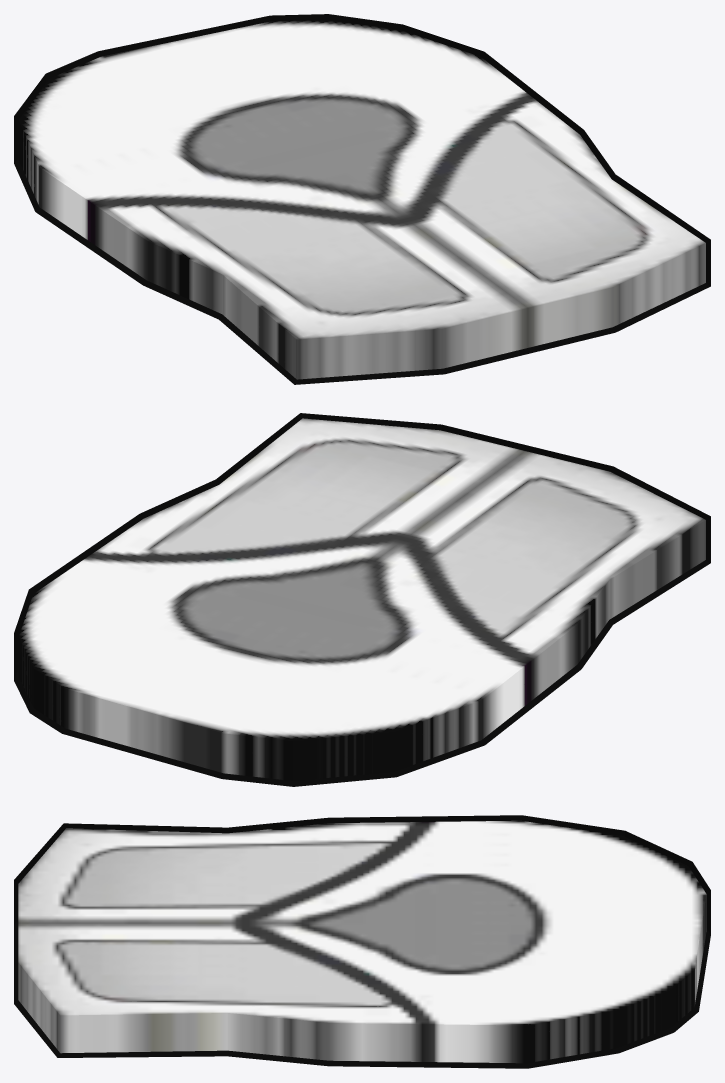
File: Item_Apparel_FlakJacket_Things_Pawn_Humanlike_Apparel_FlakJacket_FlakJacket.glb
3 renders of one model, top to bottom at view 1: azimuth 30°, elevation 25°; view 2: azimuth 150°, elevation 25°; view 3: azimuth 270°, elevation 25°, orthographic. The views are drawn at different scales.
Parts seen in each view (by area): view 1: Body, Outline; view 2: Body, Outline; view 3: Body, Outline.
Boxes of the visible parts, bbox=[...] form: Body: bbox=[18, 20, 705, 379]; Outline: bbox=[14, 14, 710, 384]; Body: bbox=[18, 418, 705, 780]; Outline: bbox=[14, 413, 710, 786]; Body: bbox=[18, 820, 706, 1063]; Outline: bbox=[14, 815, 710, 1068].
Bounding box in the file's own units: 0.6443 × 0.066 × 0.9099.
Materials: 2 (1 with a texture image).
